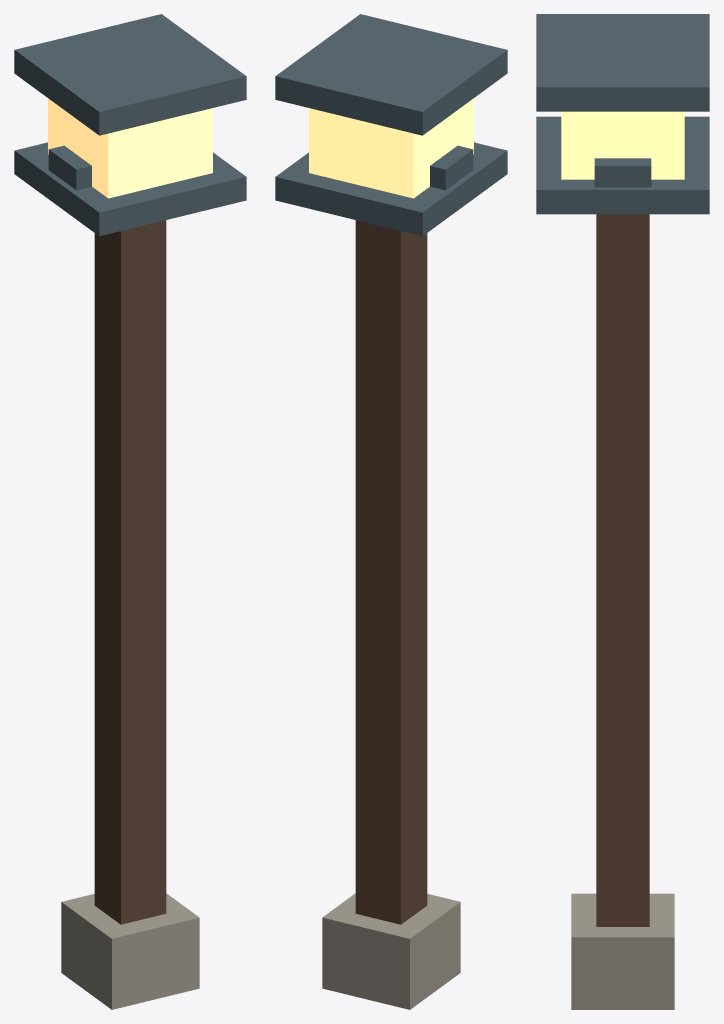
Rendered from ENV_Lantern_A_LOD1.glb.
The picture shows the model from 3 angles, left to right: view 1: azimuth 30°, elevation 25°; view 2: azimuth 150°, elevation 25°; view 3: azimuth 270°, elevation 25°; orthographic projection. The views are drawn at different scales.
Visible parts, largest first — view 1: ENV_Lantern_A_LOD1_post_woodDark, ENV_Lantern_A_LOD1_iron_frame_iron, ENV_Lantern_A_LOD1_post_stone, ENV_Lantern_A_LOD1_warm_glass_lamp, ENV_Lantern_A_LOD1_post_iron; view 2: ENV_Lantern_A_LOD1_post_woodDark, ENV_Lantern_A_LOD1_iron_frame_iron, ENV_Lantern_A_LOD1_post_stone, ENV_Lantern_A_LOD1_warm_glass_lamp, ENV_Lantern_A_LOD1_post_iron; view 3: ENV_Lantern_A_LOD1_post_woodDark, ENV_Lantern_A_LOD1_iron_frame_iron, ENV_Lantern_A_LOD1_post_stone, ENV_Lantern_A_LOD1_warm_glass_lamp, ENV_Lantern_A_LOD1_post_iron.
Boxes of the visible parts, x1=… form: ENV_Lantern_A_LOD1_post_woodDark: x1=94, y1=220, x2=166, y2=924; ENV_Lantern_A_LOD1_iron_frame_iron: x1=14, y1=14, x2=246, y2=236; ENV_Lantern_A_LOD1_post_stone: x1=61, y1=893, x2=199, y2=1009; ENV_Lantern_A_LOD1_warm_glass_lamp: x1=48, y1=98, x2=212, y2=198; ENV_Lantern_A_LOD1_post_iron: x1=48, y1=145, x2=91, y2=190; ENV_Lantern_A_LOD1_post_woodDark: x1=355, y1=220, x2=427, y2=924; ENV_Lantern_A_LOD1_iron_frame_iron: x1=275, y1=14, x2=507, y2=236; ENV_Lantern_A_LOD1_post_stone: x1=322, y1=893, x2=460, y2=1009; ENV_Lantern_A_LOD1_warm_glass_lamp: x1=309, y1=98, x2=473, y2=198; ENV_Lantern_A_LOD1_post_iron: x1=430, y1=145, x2=473, y2=190; ENV_Lantern_A_LOD1_post_woodDark: x1=596, y1=214, x2=649, y2=926; ENV_Lantern_A_LOD1_iron_frame_iron: x1=536, y1=14, x2=709, y2=214; ENV_Lantern_A_LOD1_post_stone: x1=571, y1=893, x2=674, y2=1009; ENV_Lantern_A_LOD1_warm_glass_lamp: x1=561, y1=111, x2=684, y2=179; ENV_Lantern_A_LOD1_post_iron: x1=594, y1=158, x2=651, y2=187.
Bounding box in the file's own units: 0.52 × 3.1 × 0.52.
